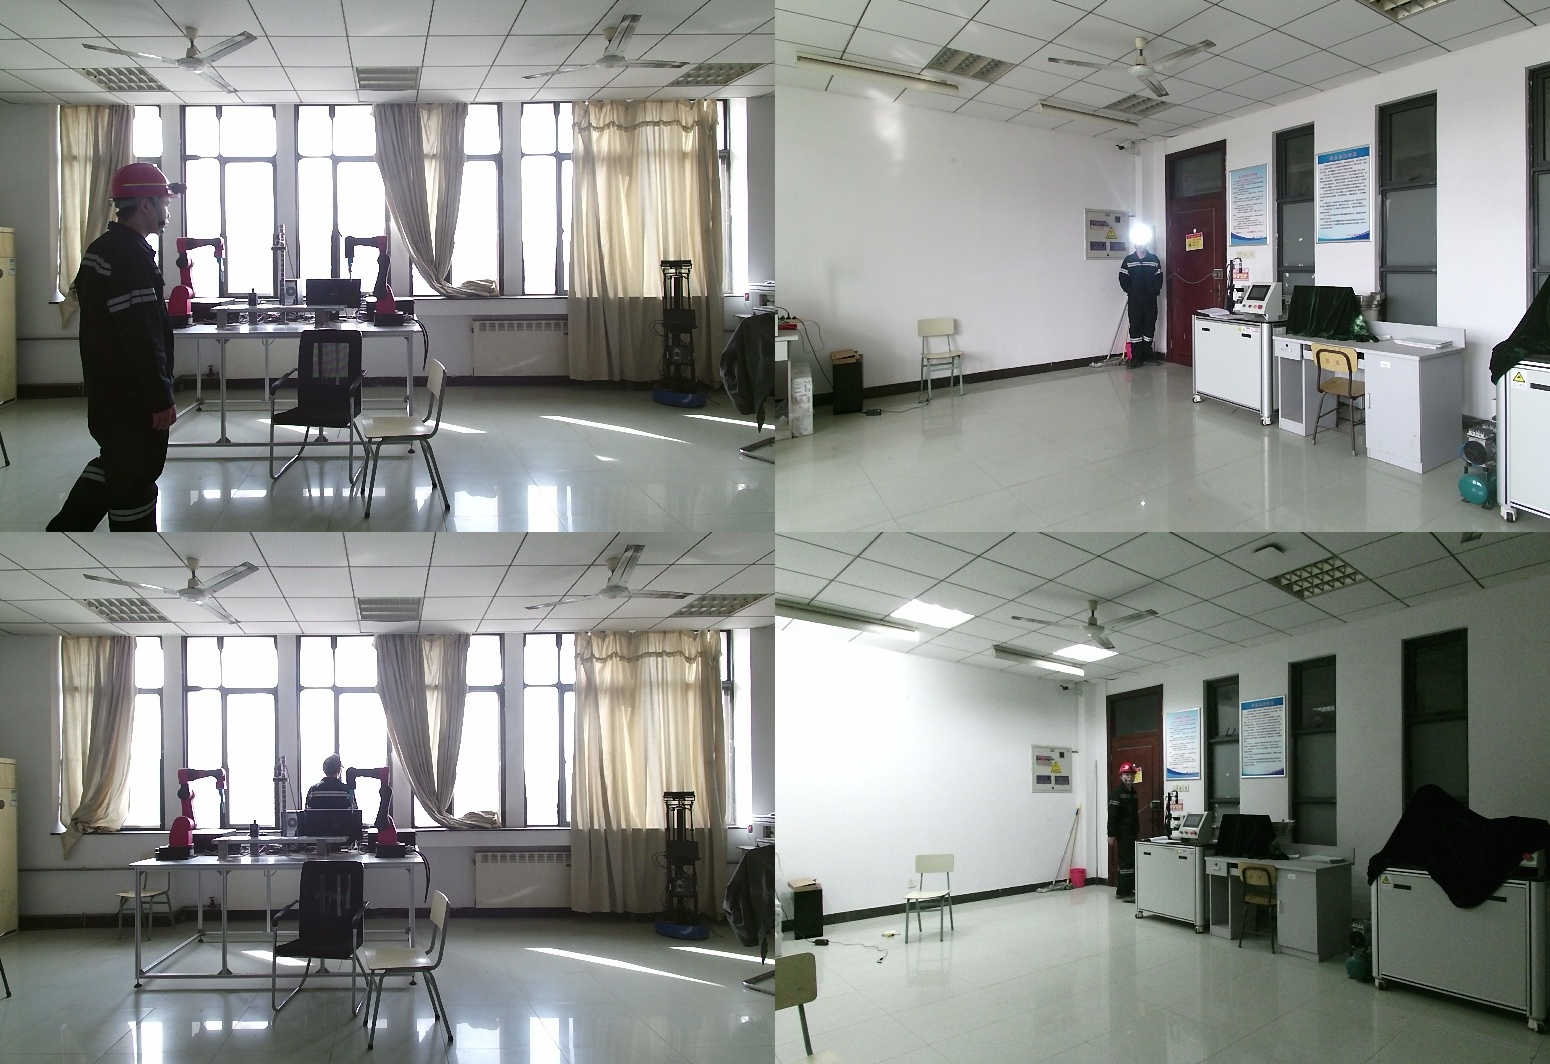person: (46, 163, 190, 532), (1119, 231, 1164, 369), (1105, 764, 1145, 906), (299, 754, 364, 841)
